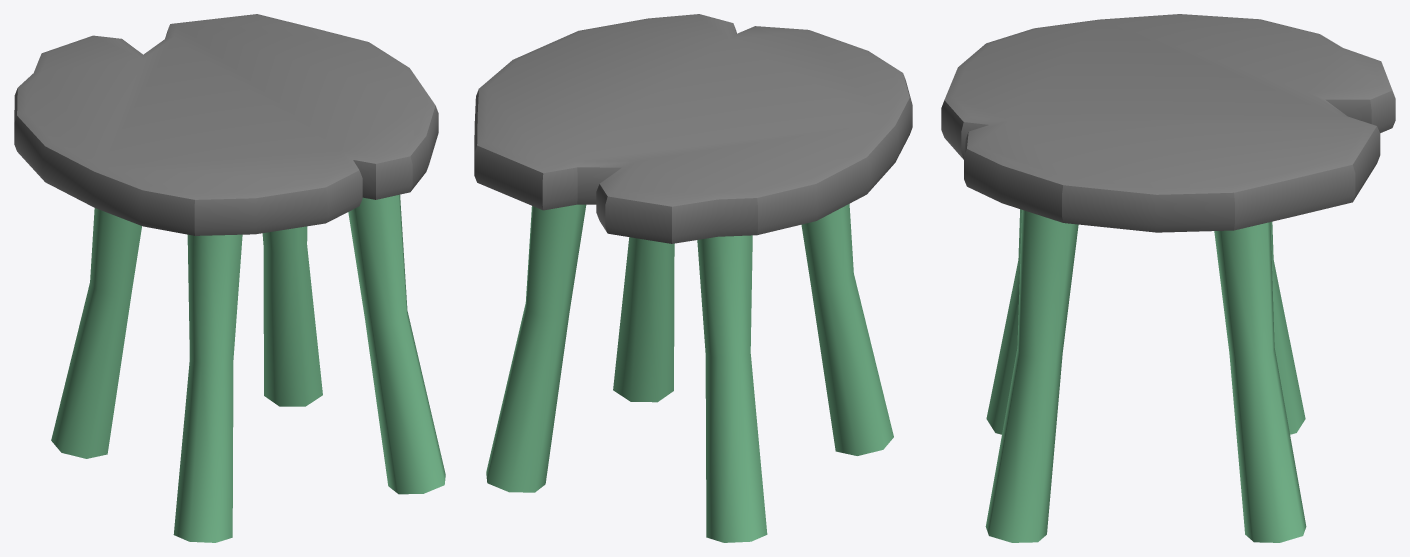
The model's file is Mini_Chair_3.fbx.
3 views of the same model, side by side, from view 1: azimuth 30°, elevation 25°; view 2: azimuth 150°, elevation 25°; view 3: azimuth 270°, elevation 25° (orthographic). The views are drawn at different scales.
Parts seen in each view (by area): view 1: Line002, Cylinder002; view 2: Line002, Cylinder002; view 3: Line002, Cylinder002.
Part boxes in pixels (x1,y1,x2,y2): Line002: (14,14,438,235); Cylinder002: (51,194,445,542); Line002: (474,14,912,243); Cylinder002: (486,204,893,542); Line002: (941,14,1395,232); Cylinder002: (985,209,1306,542).
Size of the model in its own units: 68.32 by 65.09 by 71.53.
